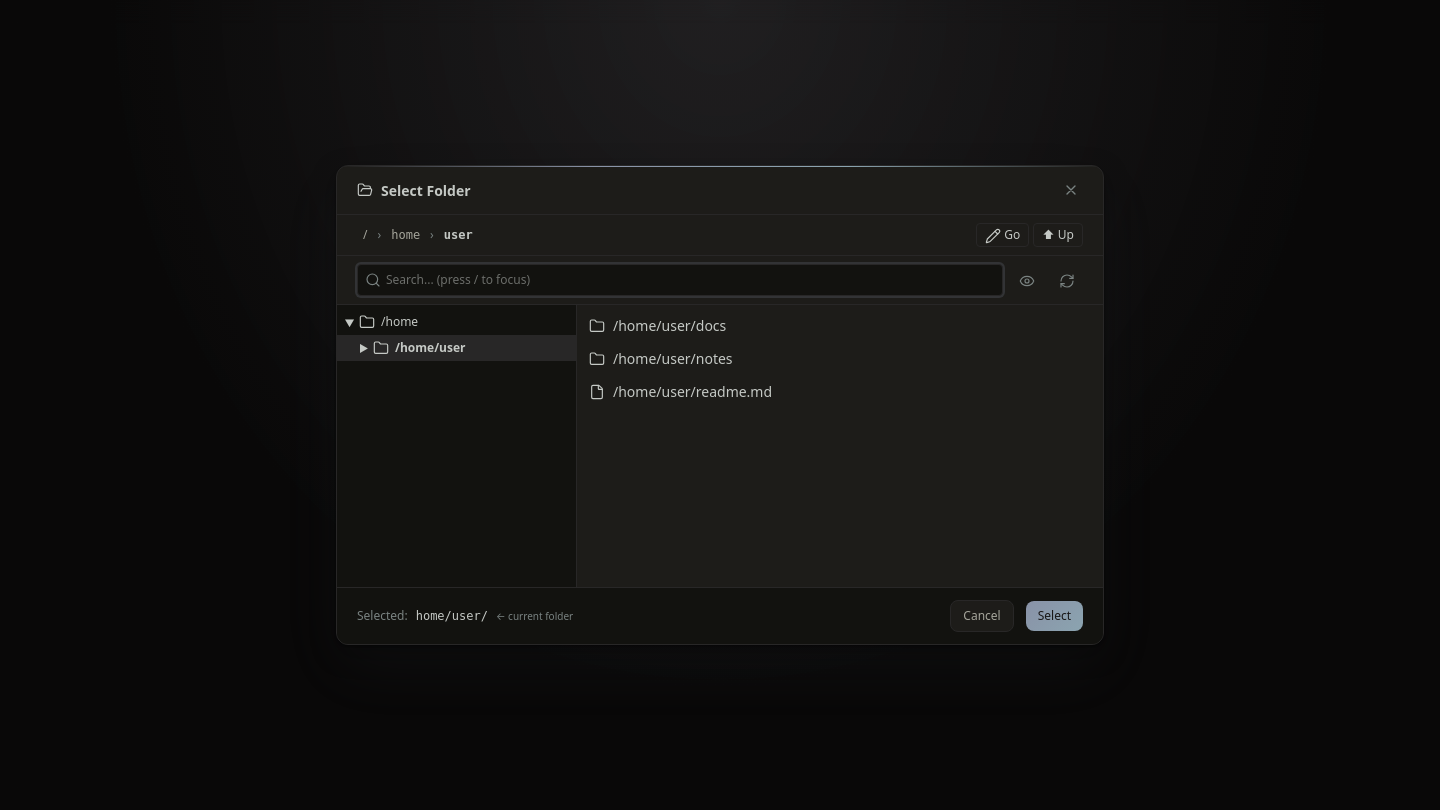
Scenario: FilePickerDialog — search › filters content pane items by search query
The width and height of the screenshot is (1440, 810).
In the field with test id "file-picker-search": (680, 280) [357,264,1003,296], type "docs"
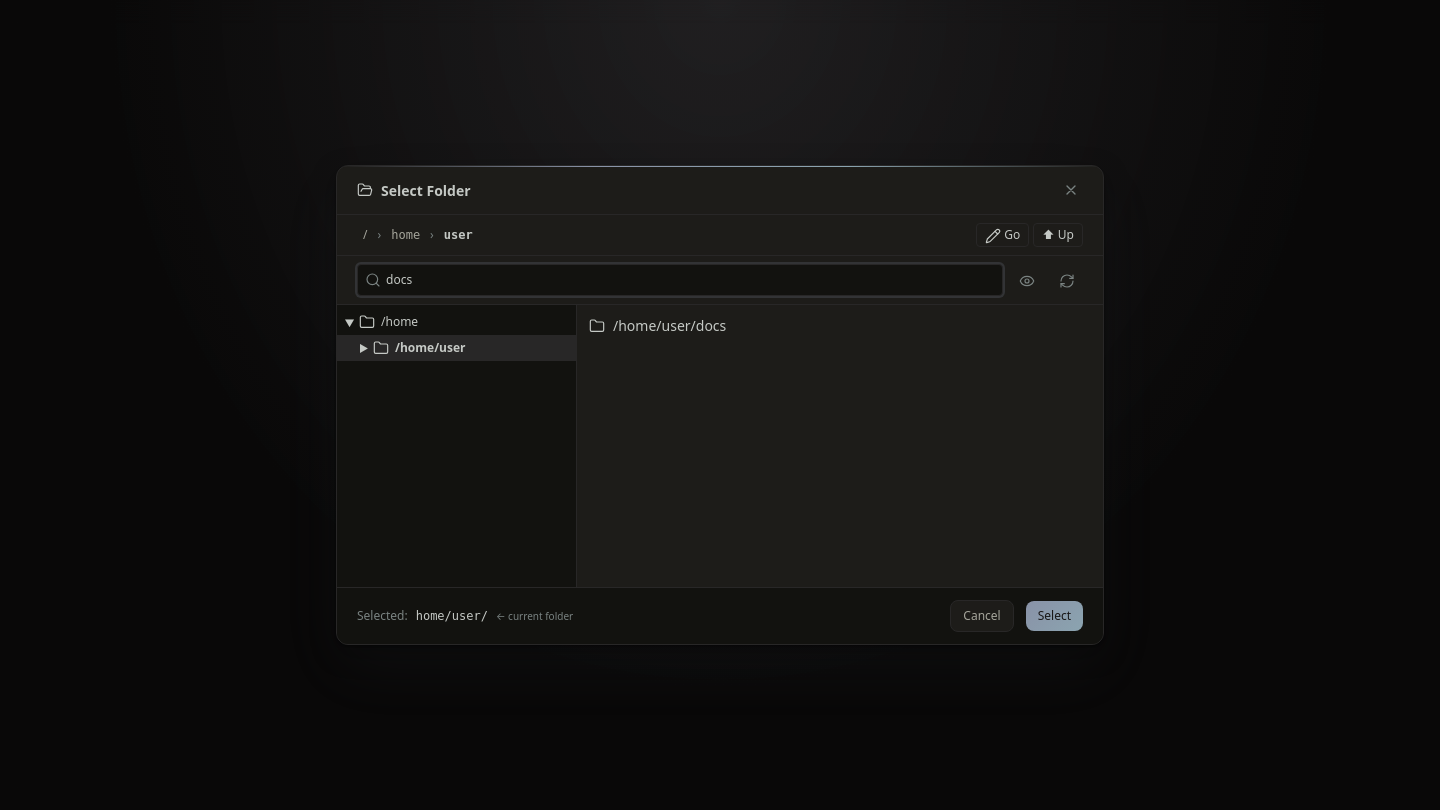
expect the button with test id "file-picker-item-/home/user/docs" is shown: met, box [577,309,1103,342]
expect the button with test id "file-picker-item-/home/user/notes" is gone: met
expect the button with test id "file-picker-item-/home/user/readme.md" is gone: met
